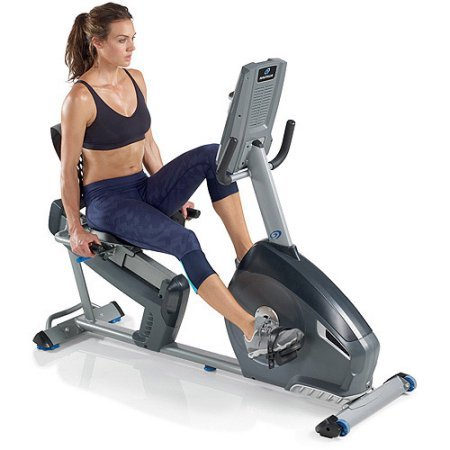gym_bike: (39, 65, 423, 440)
